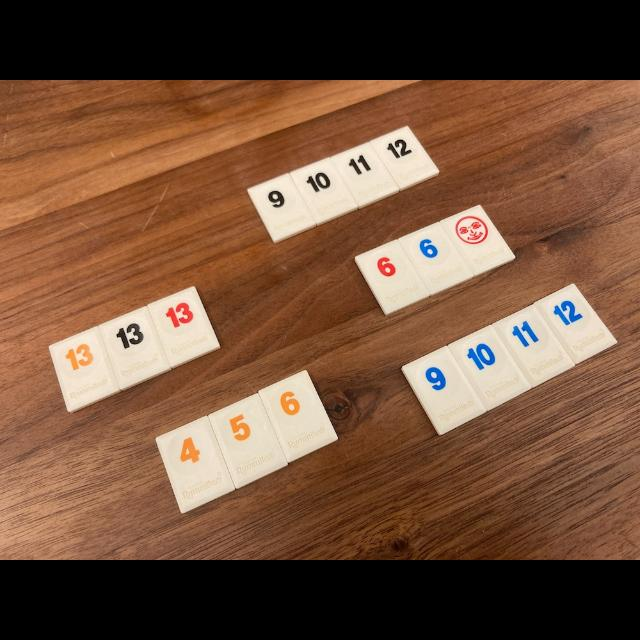black_10: (290, 158, 358, 225)
black_11: (331, 142, 399, 208)
black_12: (370, 126, 439, 190)
black_13: (99, 306, 170, 390)
black_9: (248, 174, 316, 242)
blue_10: (450, 325, 531, 410)
blue_11: (492, 305, 575, 386)
blue_12: (534, 284, 616, 364)
blue_6: (399, 222, 472, 295)
blue_9: (402, 346, 486, 435)
joker: (440, 205, 515, 275)
orange_13: (49, 326, 120, 411)
orange_4: (156, 416, 235, 512)
orange_5: (210, 394, 288, 488)
orange_6: (259, 370, 338, 462)
red_13: (148, 286, 220, 368)
red_6: (355, 240, 430, 315)
